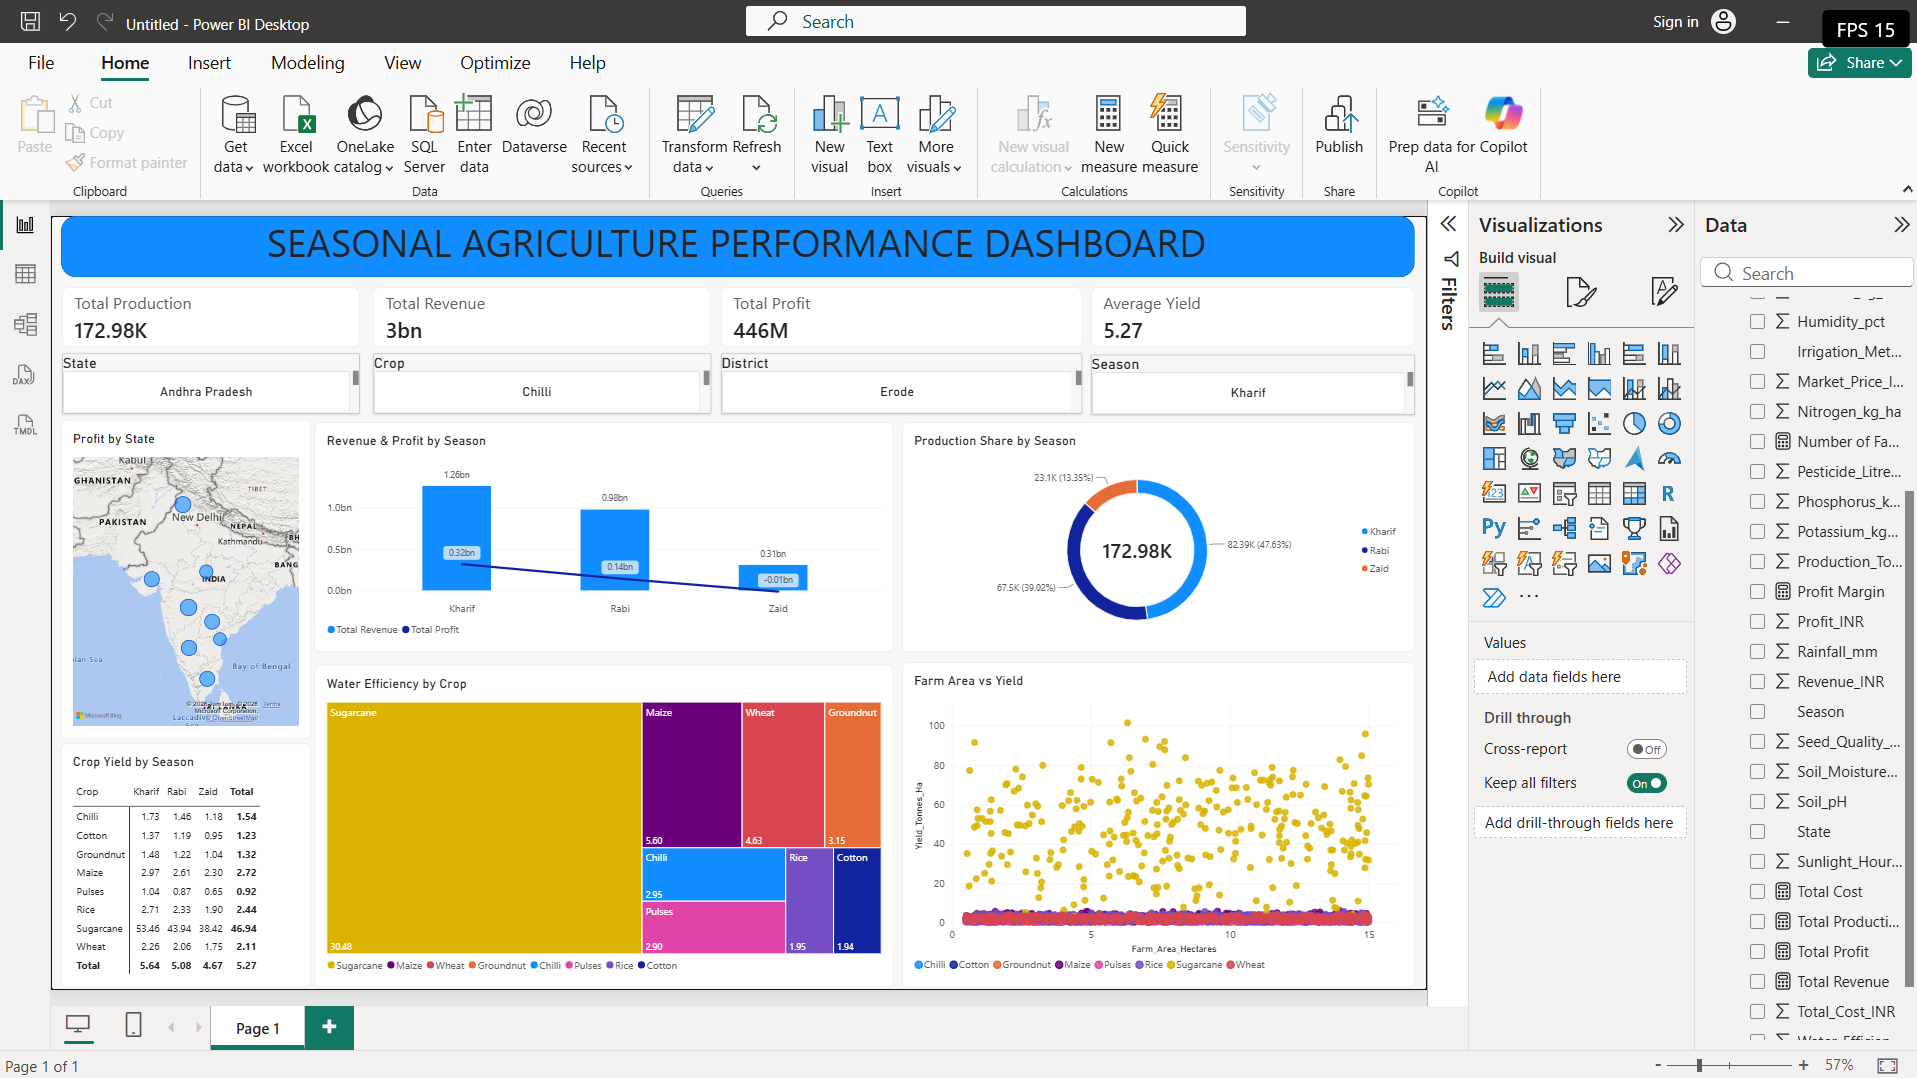

Layout of this report page (visuals, bound fields, positions):
{"tool":"powerbi","page":{"name":"Page 1","canvas":[1920,1080],"ordinal":0},"visuals":[{"type":"cardVisual","title":"Total Production","fields":{"Data":["seasonal_agriculture_performance_dataset.Total Production"]},"box":[15.7,99.4,415.1,83.7],"z":0},{"type":"cardVisual","fields":{"Data":["seasonal_agriculture_performance_dataset.Total Revenue"]},"box":[450,99.4,470.9,83.7],"z":1000},{"type":"cardVisual","fields":{"Data":["seasonal_agriculture_performance_dataset.Total Profit"]},"box":[934.9,99.4,504.1,83.7],"z":2000},{"type":"cardVisual","fields":{"Data":["seasonal_agriculture_performance_dataset.Average Yield"]},"box":[1451.2,99.4,451.7,83.7],"z":3000},{"type":"shape","box":[14,0,1889,85.5],"z":4000},{"type":"lineClusteredColumnComboChart","title":"Revenue & Profit by Season","fields":{"Y":["seasonal_agriculture_performance_dataset.Total Revenue"],"Category":["seasonal_agriculture_performance_dataset.Season"],"Y2":["seasonal_agriculture_performance_dataset.Total Profit"]},"box":[368,287.8,807.6,320.9],"z":5000},{"type":"textbox","box":[204.1,0,1519.2,85.5],"z":6000},{"type":"donutChart","title":"Production Share by Season","fields":{"Category":["seasonal_agriculture_performance_dataset.Season"],"Y":["seasonal_agriculture_performance_dataset.Total Production"]},"box":[1187.8,287.8,715.1,320.9],"z":7000},{"type":"scatterChart","title":"Farm Area vs Yield","fields":{"X":["seasonal_agriculture_performance_dataset.Farm_Area_Hectares"],"Y":["seasonal_agriculture_performance_dataset.Yield_Tonnes_Ha"],"Series":["seasonal_agriculture_performance_dataset.Crop"]},"box":[1187.8,622.7,715.1,453.5],"z":8000},{"type":"treemap","title":"Water Efficiency by Crop","fields":{"Group":["seasonal_agriculture_performance_dataset.Crop"],"Values":["seasonal_agriculture_performance_dataset.Average Water Efficiency"]},"box":[368,626.2,807.6,450],"z":9000},{"type":"map","title":"Profit by State","fields":{"Category":["seasonal_agriculture_performance_dataset.State"],"Size":["seasonal_agriculture_performance_dataset.Total Profit"]},"box":[14,284.3,348.8,444.8],"z":10000},{"type":"pivotTable","title":"Crop Yield by Season  ","fields":{"Rows":["seasonal_agriculture_performance_dataset.Crop"],"Columns":["seasonal_agriculture_performance_dataset.Season"],"Values":["seasonal_agriculture_performance_dataset.Average Yield"]},"box":[14,736,348.8,340.1],"z":11000},{"type":"advancedSlicerVisual","fields":{"Values":["seasonal_agriculture_performance_dataset.State"]},"box":[15.7,191.9,415.1,83.7],"z":12000},{"type":"advancedSlicerVisual","fields":{"Values":["seasonal_agriculture_performance_dataset.District"]},"box":[934.9,191.9,504.1,83.7],"z":13000},{"type":"advancedSlicerVisual","fields":{"Values":["seasonal_agriculture_performance_dataset.Crop"]},"box":[450,191.9,470.9,83.7],"z":14000},{"type":"advancedSlicerVisual","fields":{"Values":["seasonal_agriculture_performance_dataset.Season"]},"box":[1451.2,193.6,451.7,83.7],"z":15000}]}

Visuals, with their boxes on the page's 1920x1080 design canvas (x1, y1, x2, y2). These are canvas units, not pixel positions in the 1917x1078 screenshot, which may show the page scaled, cropped or inside an application window:
"Total Production" cardVisual: [16, 99, 431, 183]
cardVisual - seasonal_agriculture_performance_dataset.Total Revenue: [450, 99, 921, 183]
cardVisual - seasonal_agriculture_performance_dataset.Total Profit: [935, 99, 1439, 183]
cardVisual - seasonal_agriculture_performance_dataset.Average Yield: [1451, 99, 1903, 183]
shape: [14, 0, 1903, 86]
"Revenue & Profit by Season" lineClusteredColumnComboChart: [368, 288, 1176, 609]
textbox: [204, 0, 1723, 86]
"Production Share by Season" donutChart: [1188, 288, 1903, 609]
"Farm Area vs Yield" scatterChart: [1188, 623, 1903, 1076]
"Water Efficiency by Crop" treemap: [368, 626, 1176, 1076]
"Profit by State" map: [14, 284, 363, 729]
"Crop Yield by Season  " pivotTable: [14, 736, 363, 1076]
advancedSlicerVisual - seasonal_agriculture_performance_dataset.State: [16, 192, 431, 276]
advancedSlicerVisual - seasonal_agriculture_performance_dataset.District: [935, 192, 1439, 276]
advancedSlicerVisual - seasonal_agriculture_performance_dataset.Crop: [450, 192, 921, 276]
advancedSlicerVisual - seasonal_agriculture_performance_dataset.Season: [1451, 194, 1903, 277]
